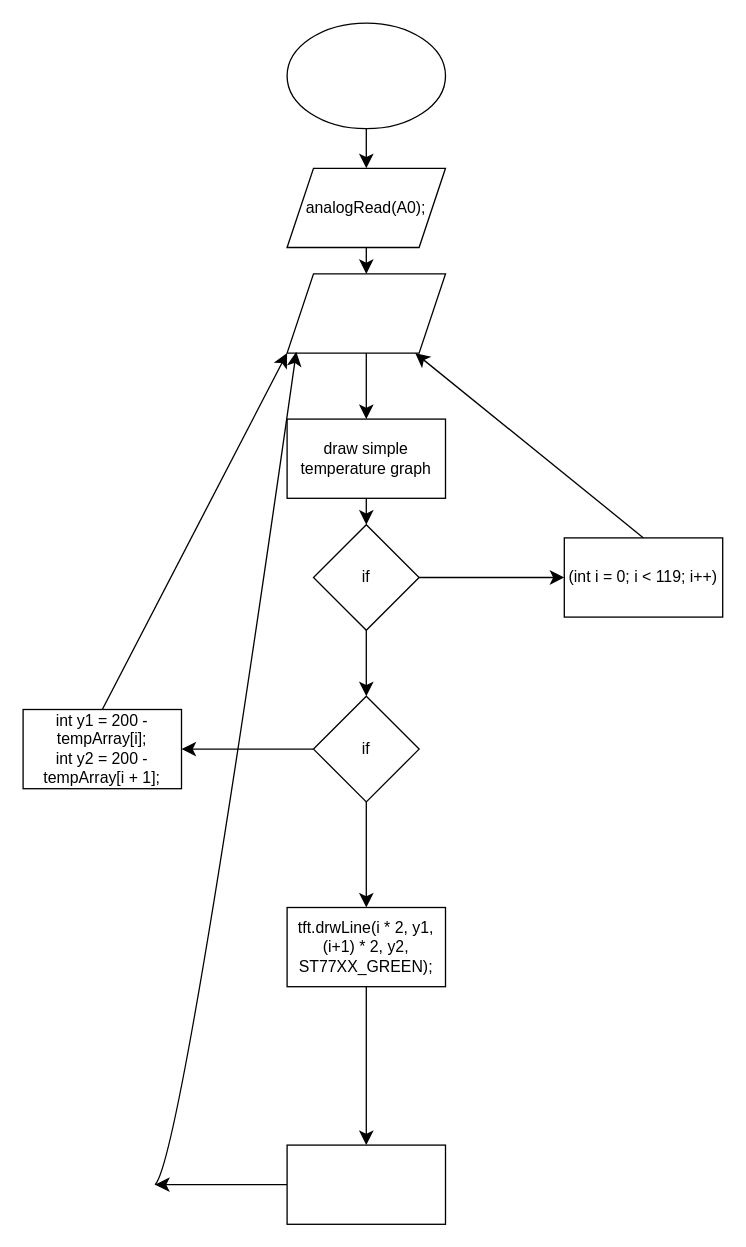
This 746x1247 diagram has some shape labels left out. Each missing label, with the centre of its shape:
"delay(2000);" belongs at (x=366, y=1184).
"Setup TFT_CS 10 TFT_RST 9 TFT_DC 8" belongs at (x=366, y=313).
"Start" belongs at (x=366, y=75).
